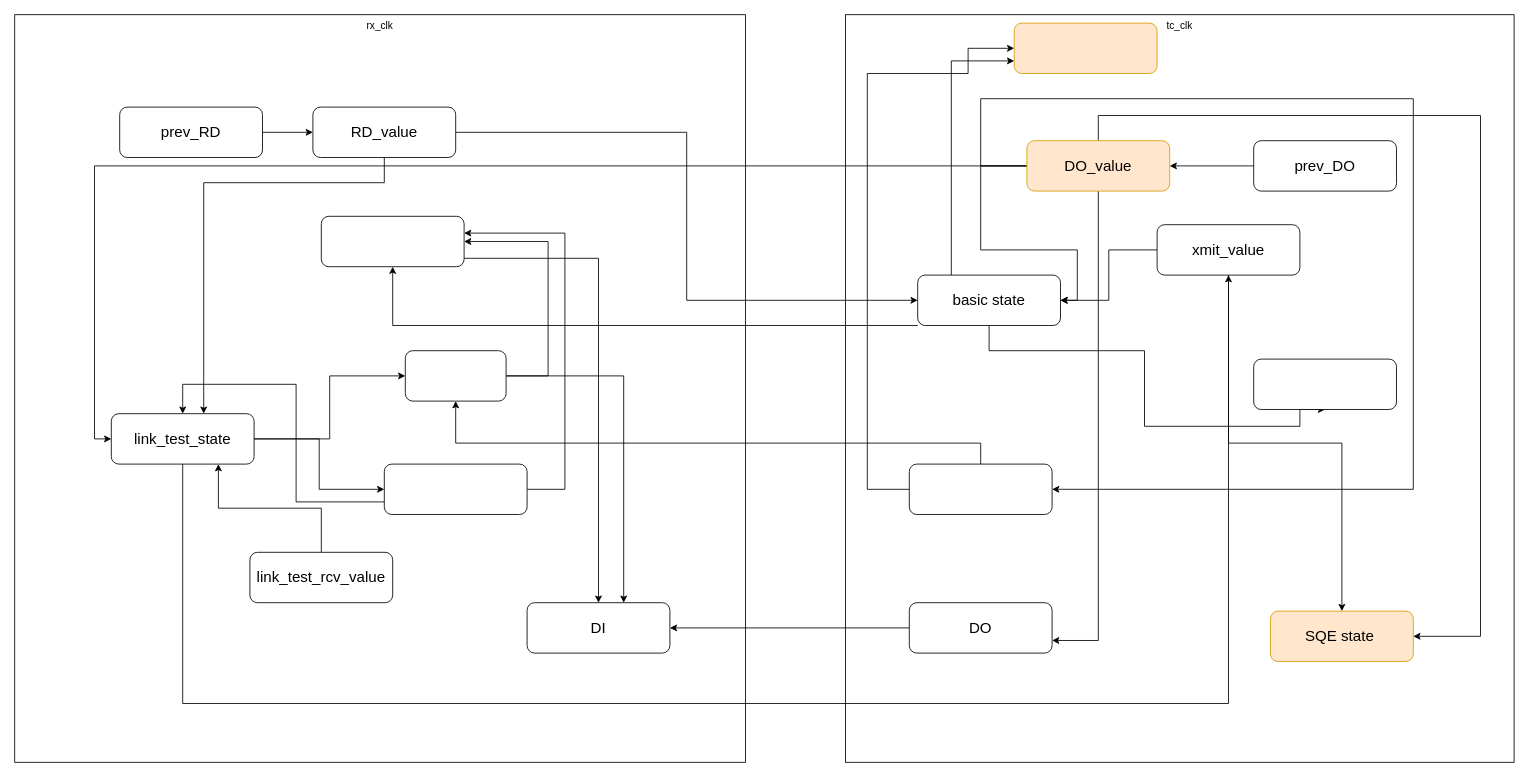
The diagram is 1529 pixels wide and 777 high, and some of its shapes have lost their labels. Each missing label, with the centre of its shape:
CI_value: the point at 1085,48
DI_value: the point at 392,241
jabber_fun_state: the point at 980,488
lpbk_value: the point at 455,375
rcv_value: the point at 455,488
TD_value: the point at 1324,384
